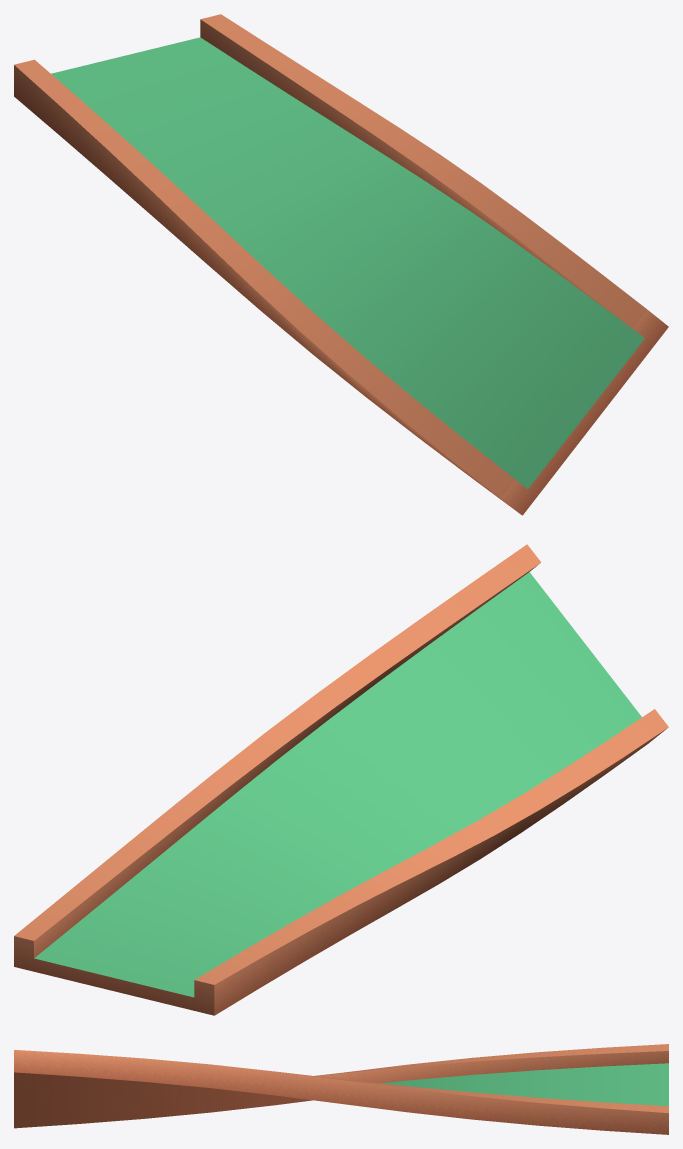
The model's file is spline-default-straight-skew-right.glb.
The picture shows the model from 3 angles, top to bottom: view 1: azimuth 30°, elevation 25°; view 2: azimuth 150°, elevation 25°; view 3: azimuth 270°, elevation 25°; orthographic projection. The views are drawn at different scales.
Visible parts, largest first — view 1: spline-default-straight-skew-right; view 2: spline-default-straight-skew-right; view 3: spline-default-straight-skew-right.
Part boxes in pixels (left/top/right/bottom): spline-default-straight-skew-right: left=14, top=14, right=668, bottom=515; spline-default-straight-skew-right: left=14, top=544, right=668, bottom=1015; spline-default-straight-skew-right: left=14, top=1044, right=668, bottom=1134.
Bounding box in the file's own units: 1.02 × 0.8107 × 4.
1 material, 1 textured.
